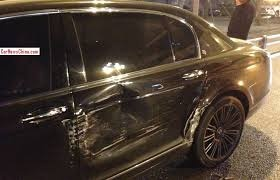Dent: (82, 83, 161, 150)
Scratch: (62, 111, 93, 159)
